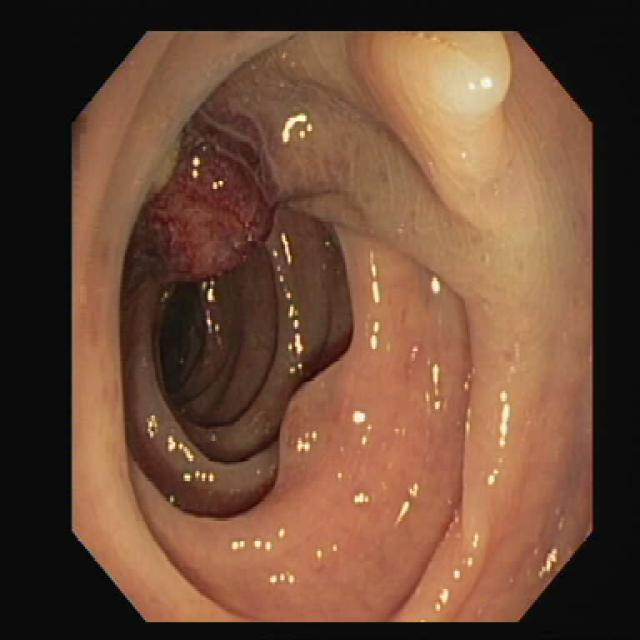tumor: (125, 136, 285, 289), (287, 369, 342, 480)
